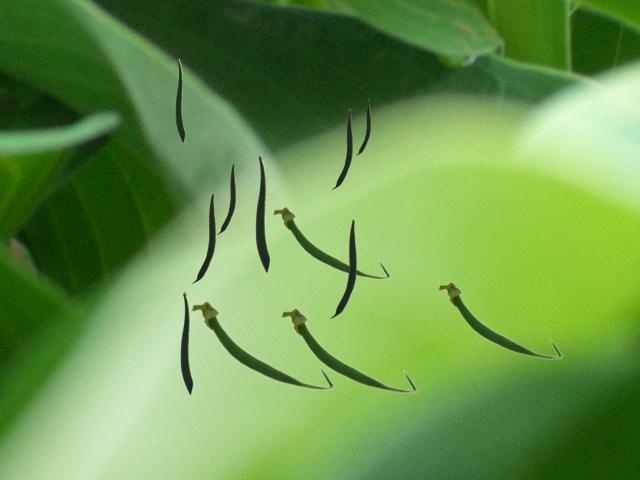french_bean: (190, 300, 334, 390), (279, 307, 417, 393), (436, 281, 562, 359), (271, 206, 390, 279), (330, 219, 355, 317), (192, 193, 214, 282), (255, 154, 269, 272), (332, 109, 351, 188), (180, 291, 192, 394), (217, 163, 234, 233), (175, 58, 184, 142), (356, 99, 369, 154)
